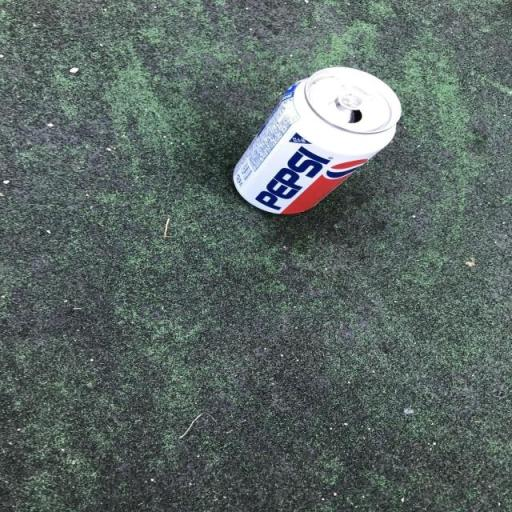metal: (225, 40, 417, 278)
